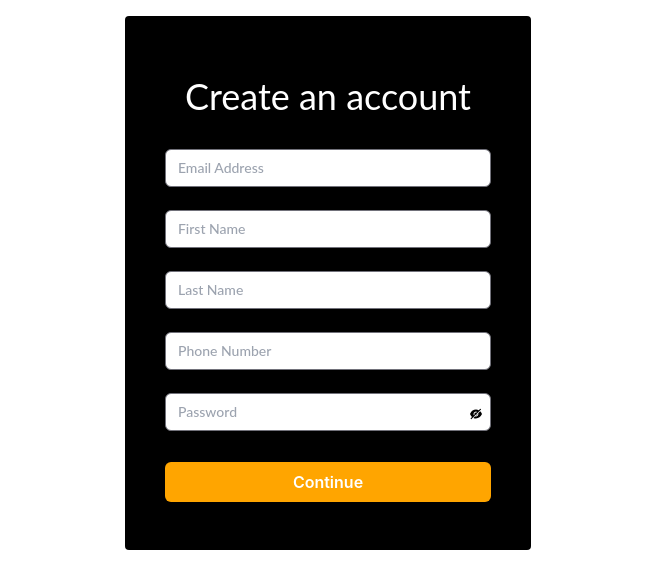
it: SignUp Page testing › should properly handle phone number validation
The image size is (657, 567).
Type "123" into the number field with placeholder "Phone Number" at (328, 351), box 165,332 -> 491,370
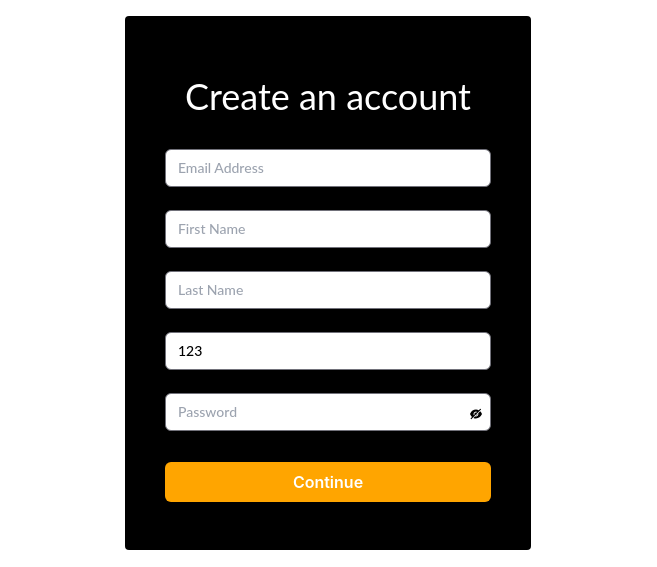
Click the button "Continue" at (328, 482), box 165,462 -> 491,502
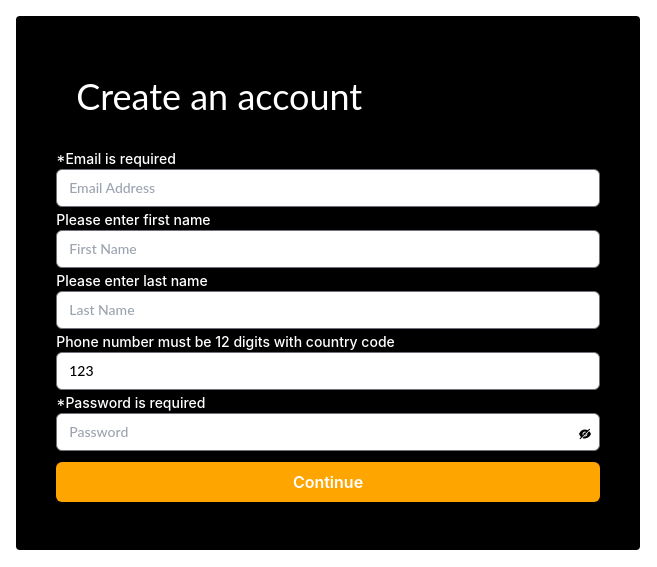
Expected: the text "Phone number must be 12 digits with country code" is shown, 56,333 -> 395,350
